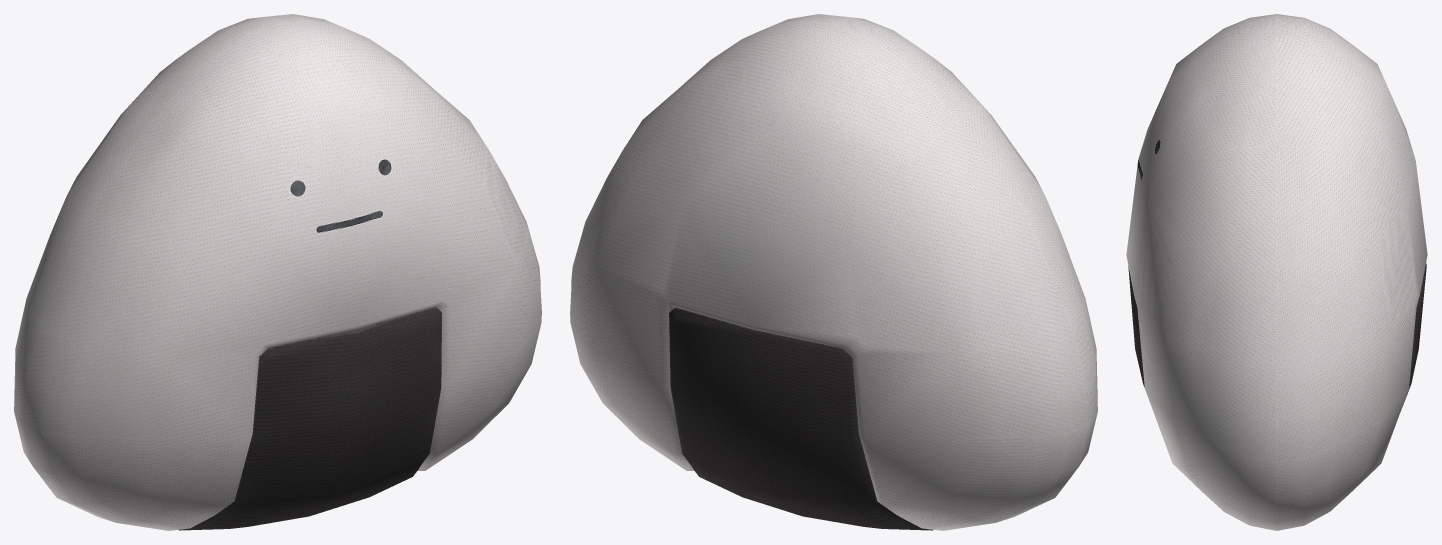
The model's file is Plushie_Onigiri.FBX.
The picture shows the model from 3 angles, left to right: view 1: azimuth 30°, elevation 25°; view 2: azimuth 150°, elevation 25°; view 3: azimuth 270°, elevation 25°; orthographic projection. The views are drawn at different scales.
Visible parts, largest first — view 1: Plushie_Onigiri; view 2: Plushie_Onigiri; view 3: Plushie_Onigiri.
Part boxes in pixels (box(x1,y1,x2,y2)): Plushie_Onigiri: box(14, 14, 541, 530); Plushie_Onigiri: box(570, 14, 1097, 530); Plushie_Onigiri: box(1126, 14, 1427, 530).
Bounding box in the file's own units: 26.15 × 23.88 × 14.27.
